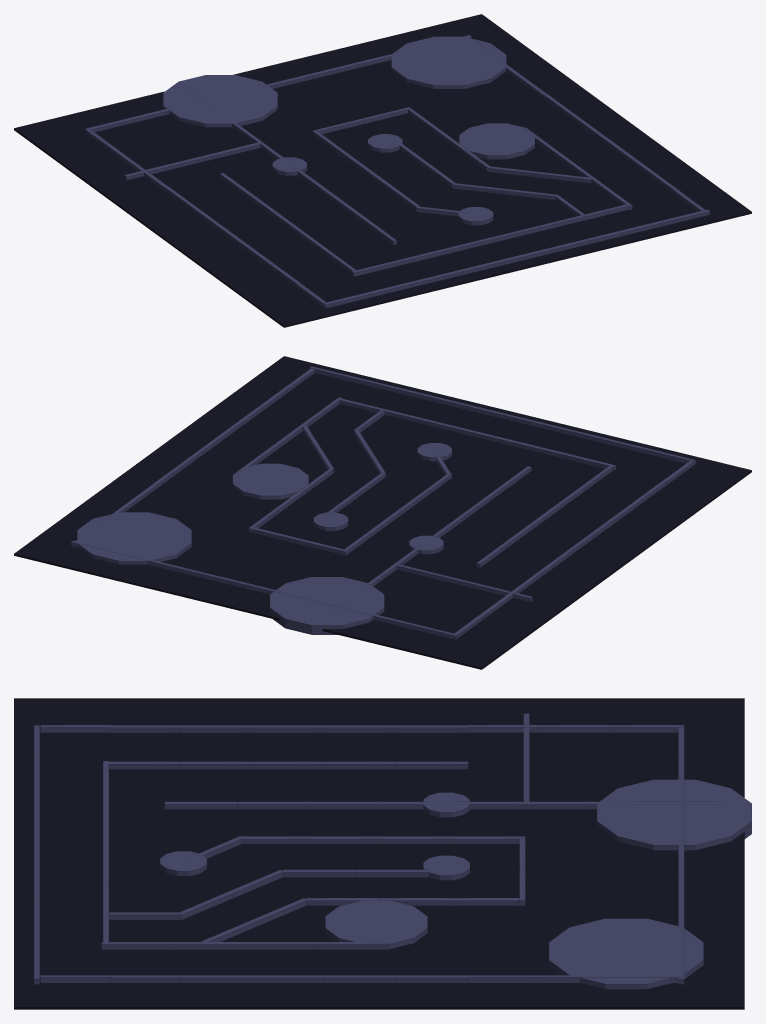
The model's file is Track1.obj.
3 renders of one model, top to bottom at view 1: azimuth 30°, elevation 25°; view 2: azimuth 150°, elevation 25°; view 3: azimuth 270°, elevation 25°, orthographic. The views are drawn at different scales.
Parts seen in each view (by area): view 1: mesh.col; view 2: mesh.col; view 3: mesh.col.
Boxes of the visible parts, x1,y1,x2,y2 form: mesh.col: (14,14,751,327); mesh.col: (14,356,751,669); mesh.col: (14,698,751,1009).
Size of the model in its own units: 31.25 by 0.625 by 31.56.
Materials: 2 (2 with a texture image).
